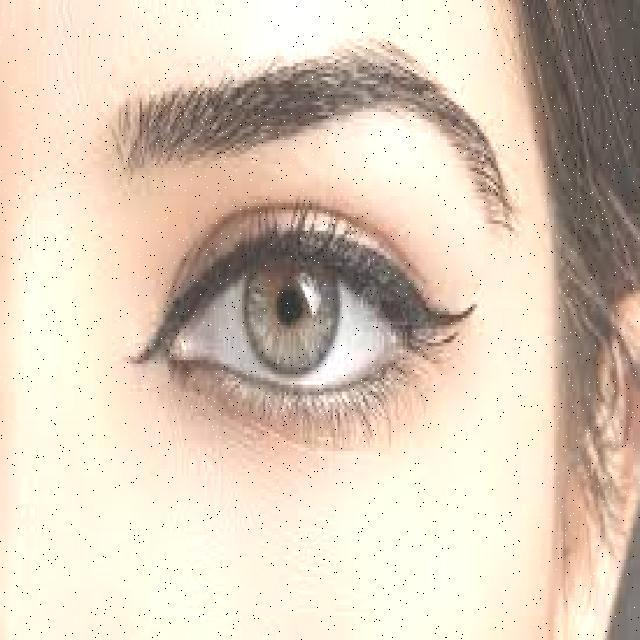Normal: (82, 163, 497, 552)
